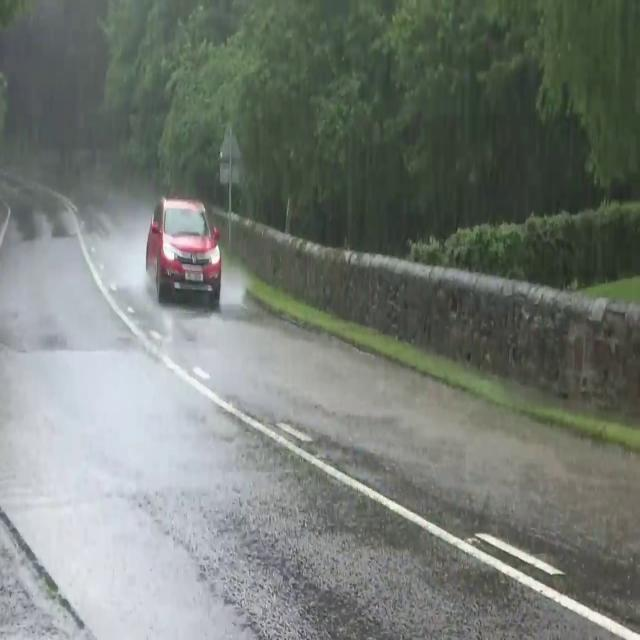license-plate-annotation: (182, 266, 210, 284)
